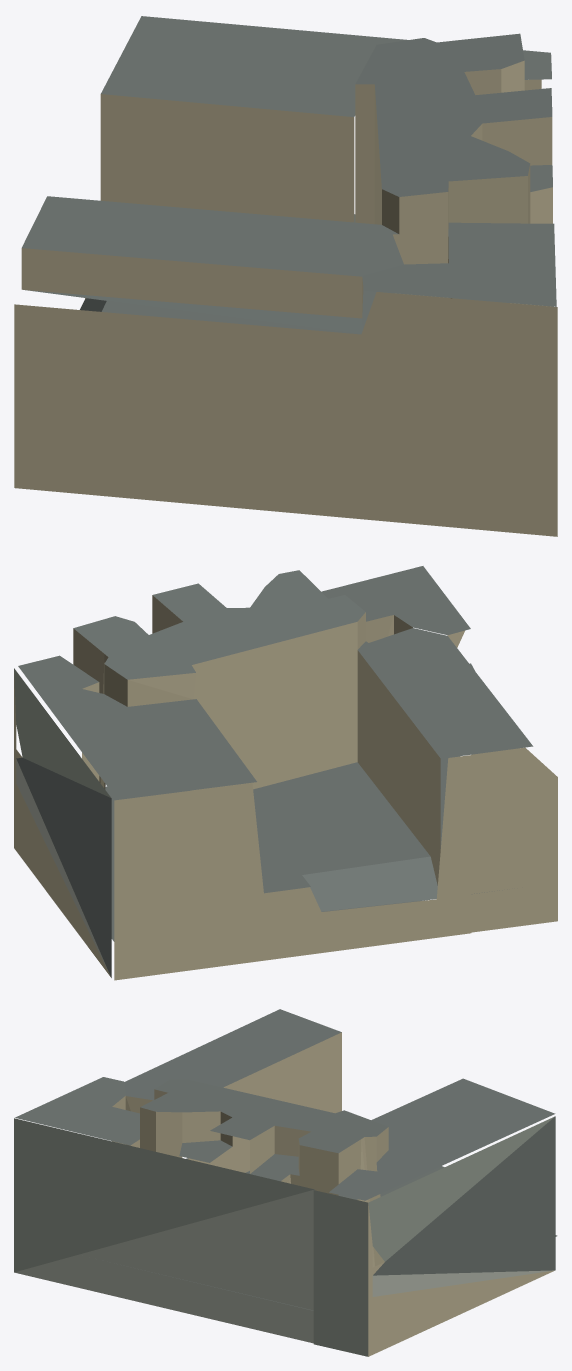
3 renders of one model, top to bottom at view 1: azimuth 30°, elevation 25°; view 2: azimuth 150°, elevation 25°; view 3: azimuth 270°, elevation 25°, orthographic. The views are drawn at different scales.
Visible parts, largest first — view 1: lod2; view 2: lod2; view 3: lod2.
Part boxes in pixels (bbox=[...]): lod2: bbox=[14, 16, 557, 536]; lod2: bbox=[14, 566, 557, 980]; lod2: bbox=[14, 1009, 557, 1356].
Size of the model in its own units: 44.87 by 19.47 by 51.12.
